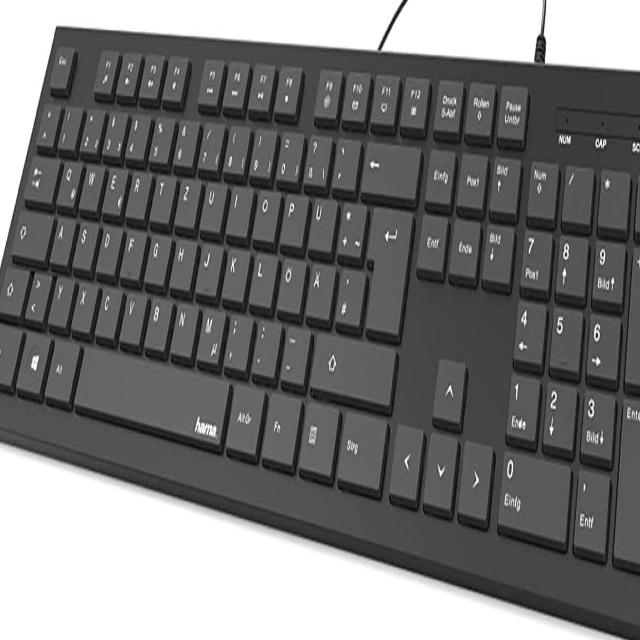0: (274, 126, 303, 180)
1: (56, 102, 82, 147)
2: (78, 104, 104, 151)
3: (101, 104, 127, 155)
4: (124, 109, 150, 158)
5: (147, 111, 174, 162)
6: (171, 114, 198, 165)
7: (196, 115, 223, 169)
8: (221, 119, 249, 174)
9: (247, 122, 276, 176)
a: (49, 212, 76, 263)
accent: (330, 132, 359, 189)
ae: (304, 258, 334, 319)
alt-left: (43, 333, 80, 402)
altgr-right: (224, 379, 264, 453)
b: (142, 291, 172, 350)
c: (93, 283, 121, 337)
caret: (33, 96, 59, 144)
comma: (222, 309, 251, 369)
d: (95, 221, 122, 275)
del: (359, 136, 420, 197)
e: (100, 161, 127, 215)
enter: (365, 202, 412, 334)
f: (119, 226, 146, 280)
g: (143, 230, 170, 284)
h: (168, 234, 196, 289)
hash: (334, 262, 364, 325)
i: (224, 180, 252, 235)
j: (194, 238, 222, 295)
k: (221, 243, 249, 301)
keyboard: (0, 19, 640, 640)
l: (248, 248, 276, 306)
less: (24, 266, 51, 319)
m: (195, 302, 224, 363)
minus: (278, 321, 310, 384)
n: (169, 297, 197, 356)
o: (250, 183, 279, 241)
oe: (275, 254, 304, 313)
p: (278, 186, 307, 246)
plus: (335, 196, 366, 257)
point: (250, 315, 280, 375)
q: (55, 153, 81, 205)
r: (124, 164, 151, 218)
s: (71, 216, 97, 270)
shift-left: (0, 261, 28, 314)
shift-lock: (8, 202, 53, 259)
shift-right: (308, 327, 394, 404)
space: (72, 343, 230, 443)
ss: (302, 130, 331, 185)
strg-left: (0, 318, 23, 384)
strg-right: (333, 404, 388, 490)
t: (148, 169, 175, 222)
tab: (21, 150, 59, 200)
u: (198, 176, 227, 231)
ue: (306, 192, 336, 252)
v: (118, 286, 147, 343)
w: (78, 157, 104, 210)
x: (69, 278, 97, 332)
y: (46, 271, 74, 325)
z: (173, 173, 201, 225)
